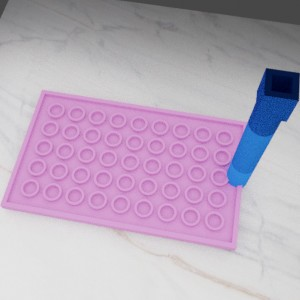lego: (0, 89, 248, 250), (225, 67, 300, 189)
